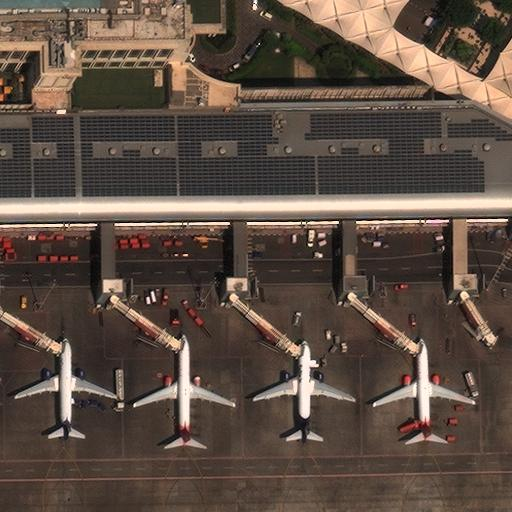Medium Civil Transport: (133, 335, 234, 446), (252, 340, 354, 443), (372, 339, 474, 441), (14, 339, 115, 438)
